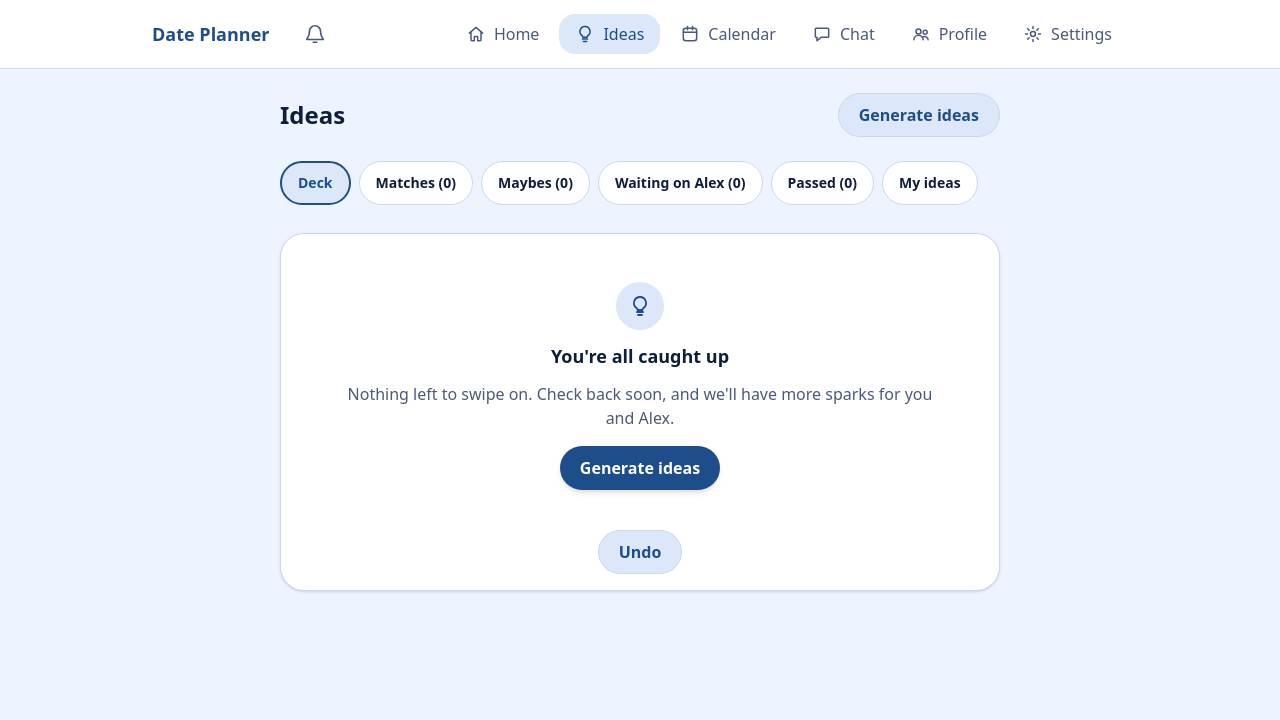
Test: GenerateIdeasSheet › starts the count at 8 as a number box
The width and height of the screenshot is (1280, 720).
Click the 1st button "Generate ideas".
click(919, 115)  # box [838, 93, 1000, 137]
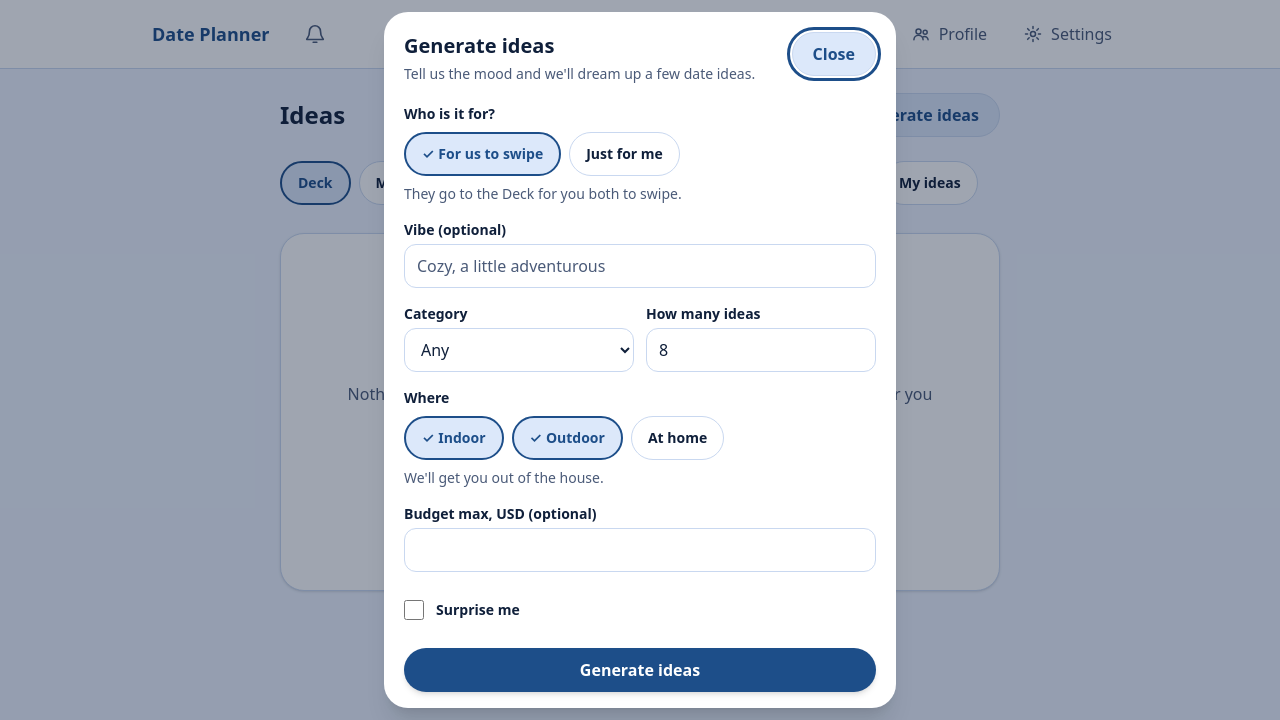
Result: the number field labelled "How many ideas" holds "8" at [646, 328, 876, 372]
